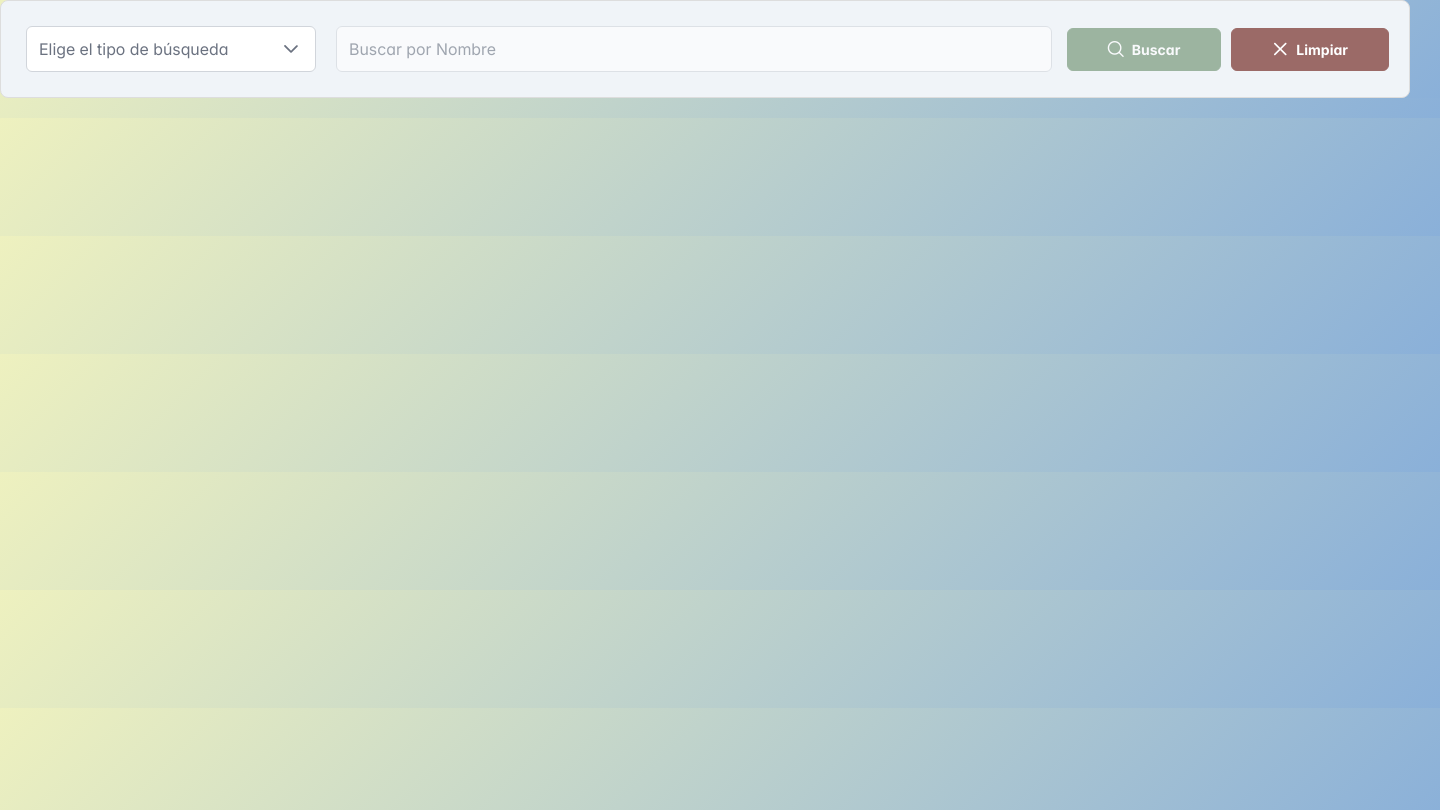
Test case: Componente ProductSearch › muestra mensaje de error si la búsqueda falla
// Seleccionar búsqueda por nombre
Click the element with test id "search-type-dropdown": (171, 49) [26,26,316,72]
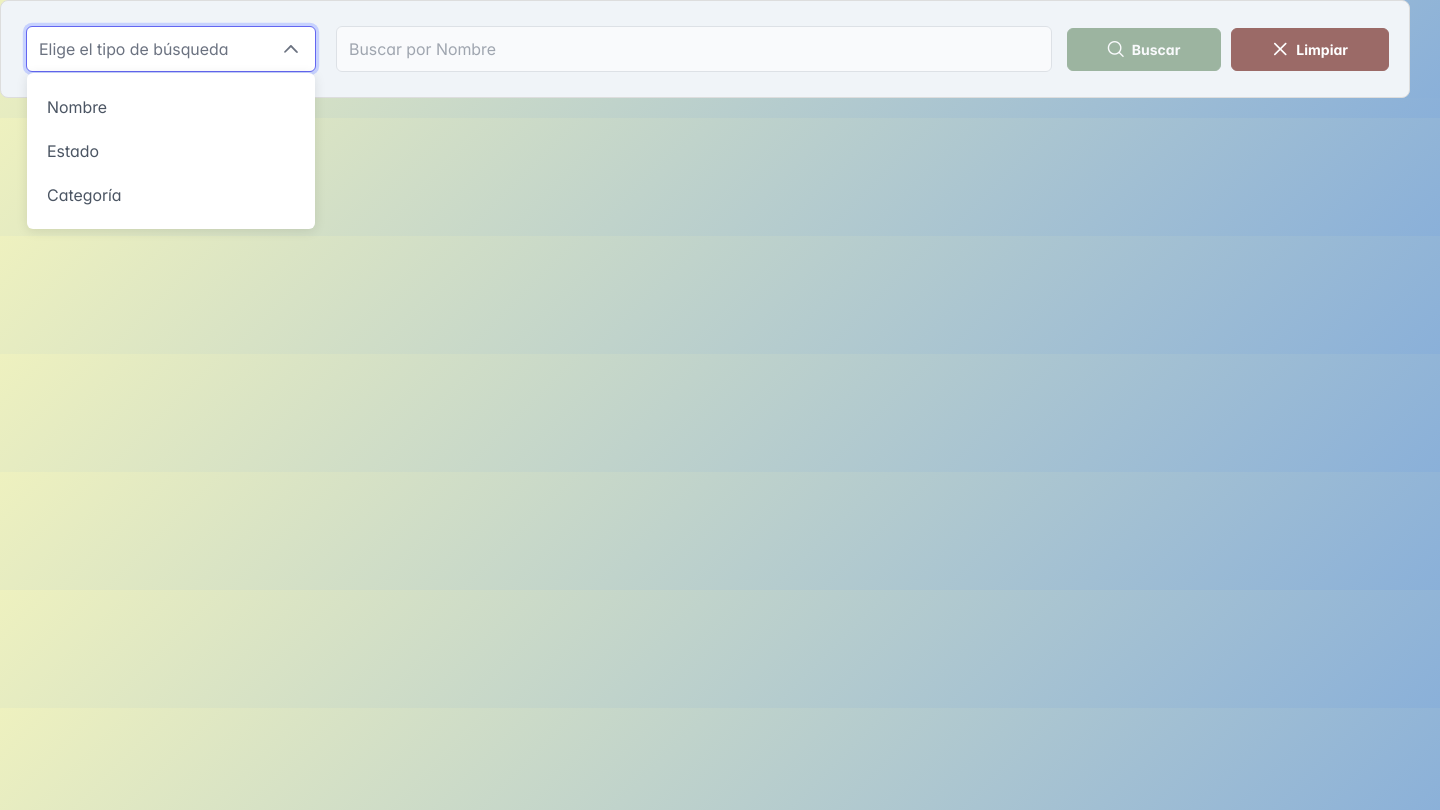
Click the option "Nombre": (77, 107) [47,97,107,117]
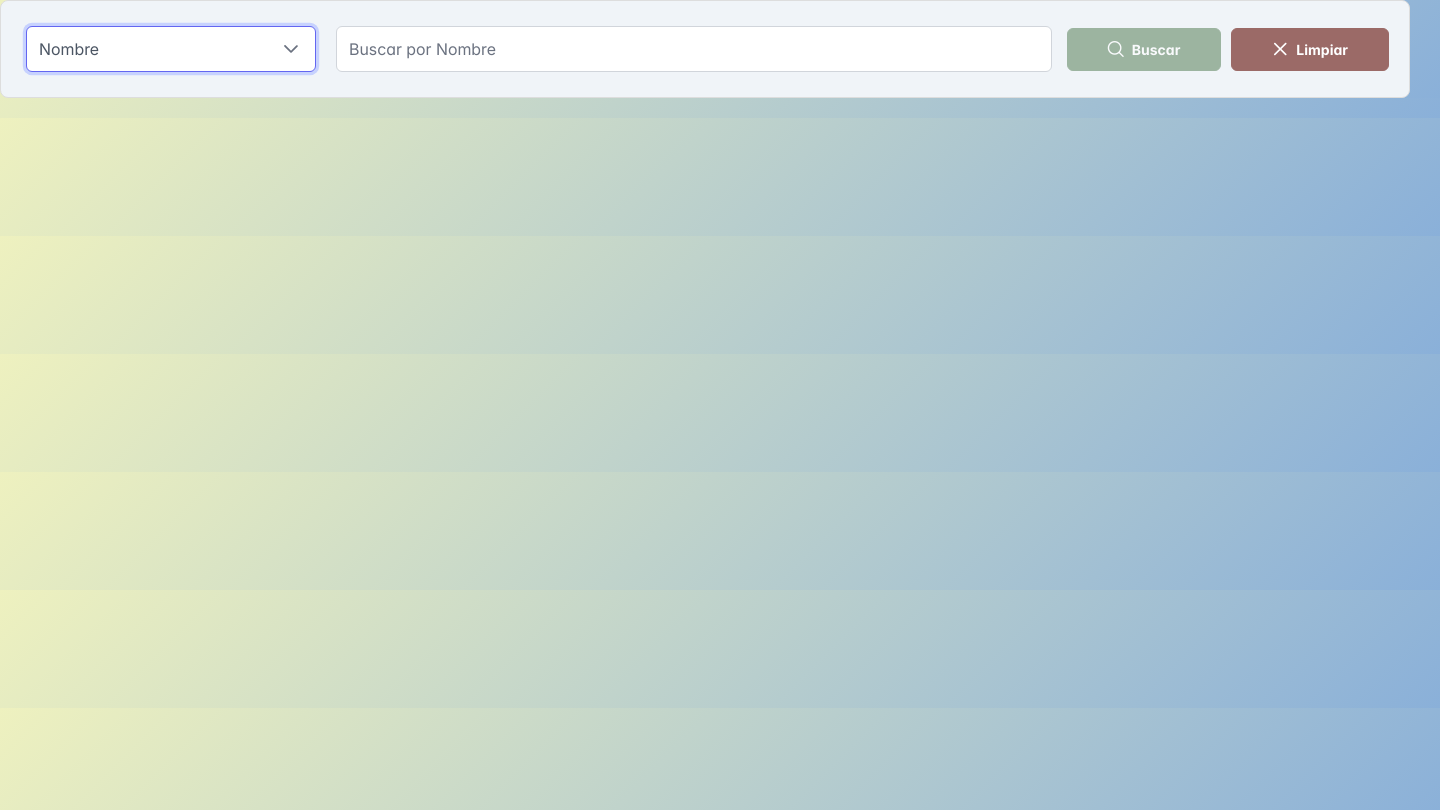
// Ingresar un nombre
In the field with placeholder "Buscar por Nombre": (694, 49) [336,26,1052,72], type "Producto 1"
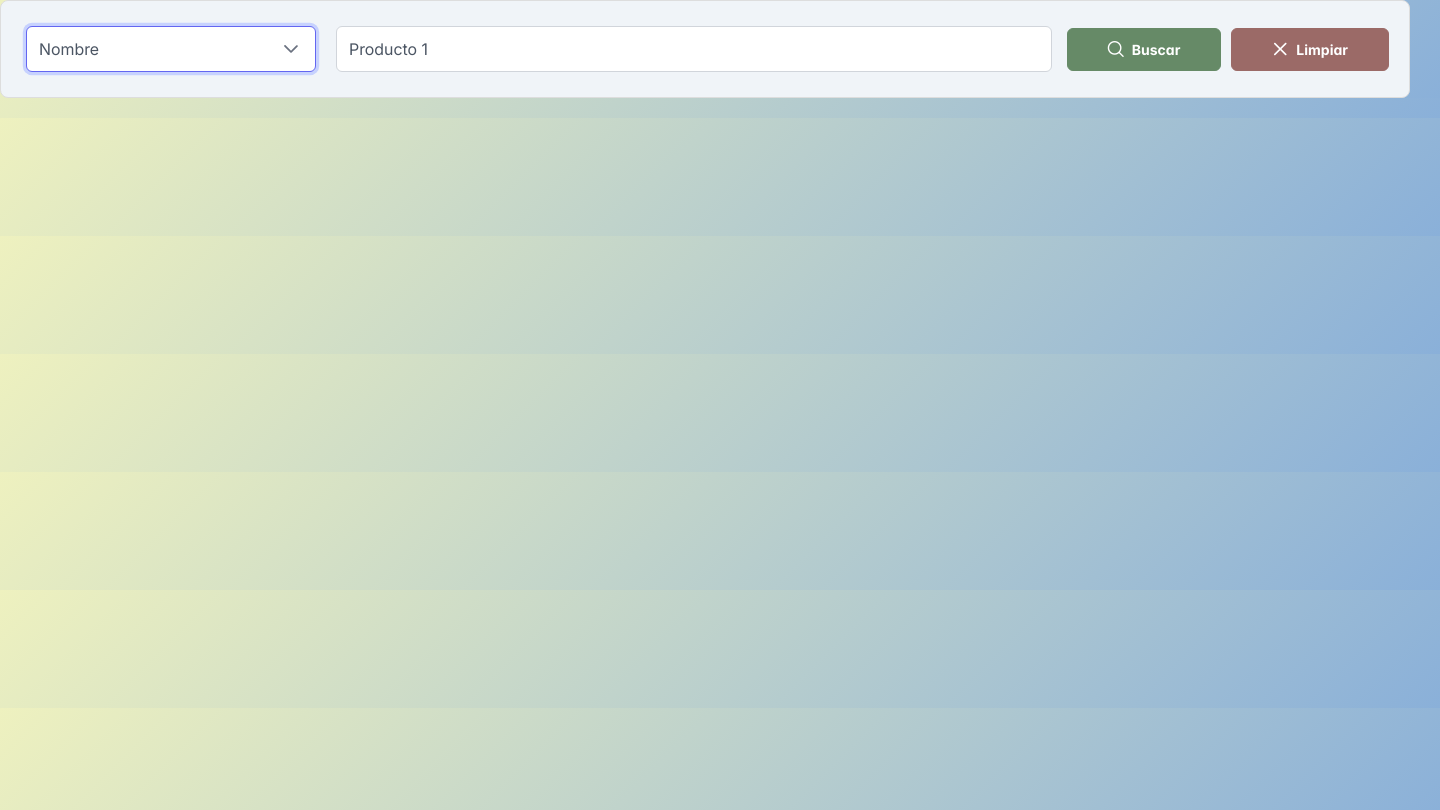
// Hacer clic en "Buscar"
Click the button "Buscar": (1144, 49) [1067,28,1221,70]
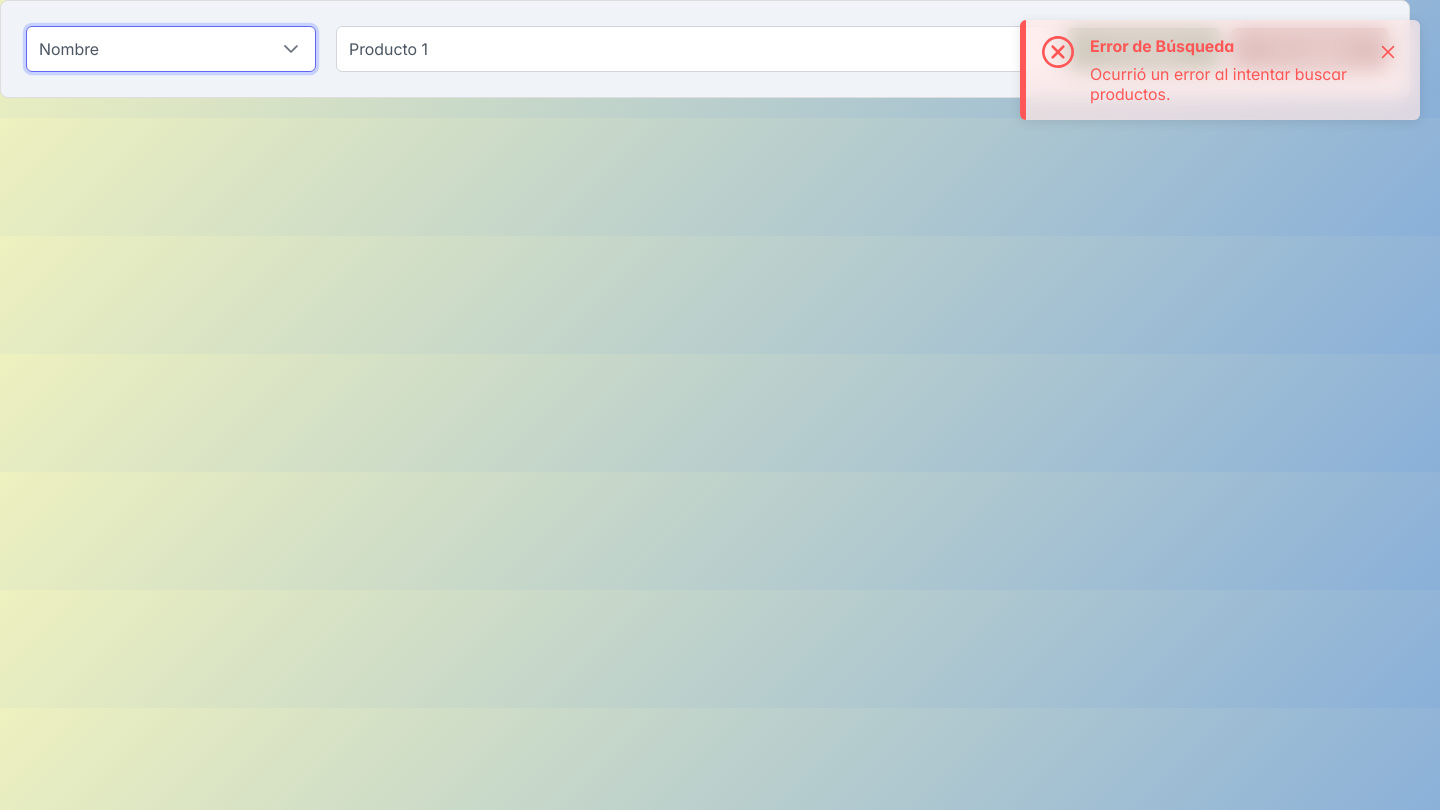
Result: the text "Error de Búsqueda" is shown at [1090,36,1234,56]
